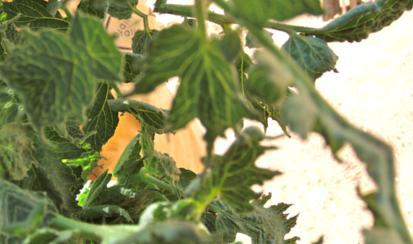Tomato leaf mosaic virus: (129, 0, 273, 148), (17, 36, 144, 143), (187, 124, 297, 226), (190, 0, 361, 60), (53, 75, 149, 171), (309, 0, 397, 74), (107, 214, 201, 244)
